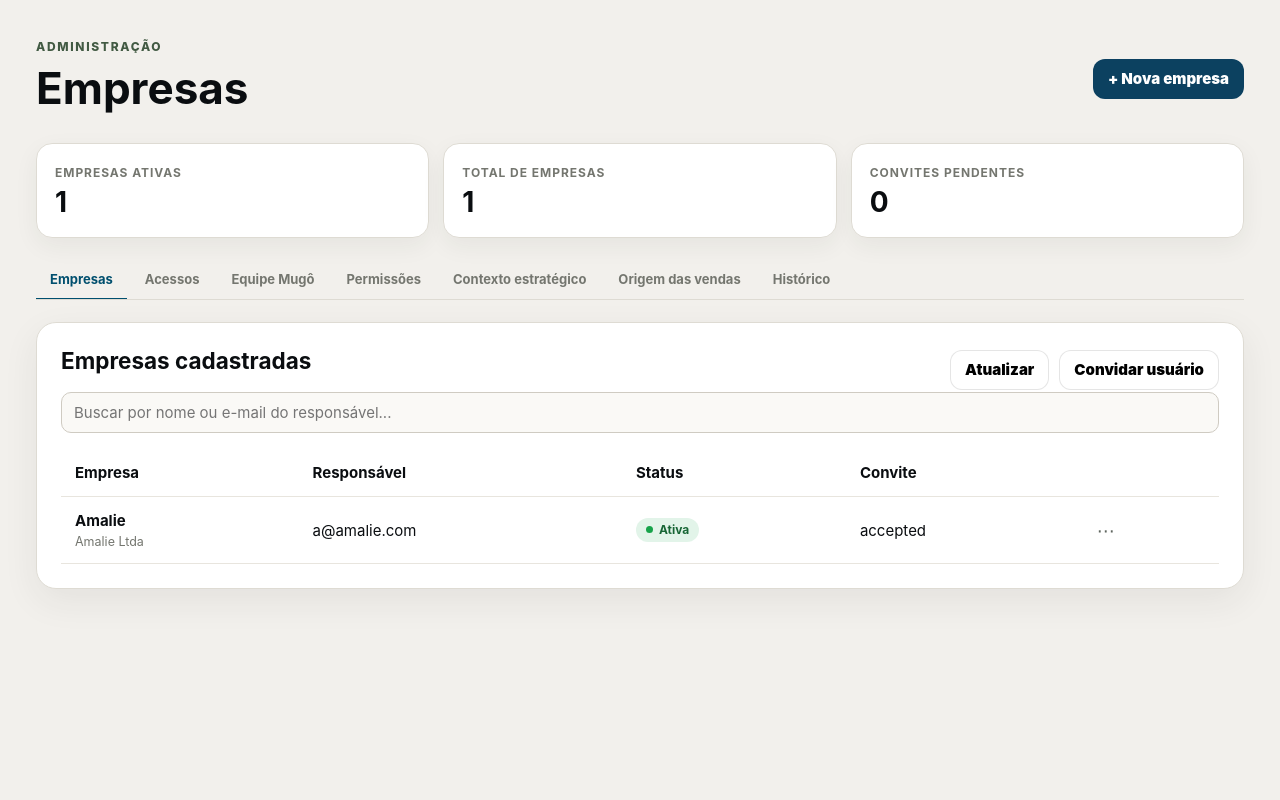
Scenario: Companies — exclusão permanente › impede excluir a empresa atualmente aberta
This screenshot has width=1280, height=800.
Click the heading "⋯": (1106, 530) [1097,520,1115,540]
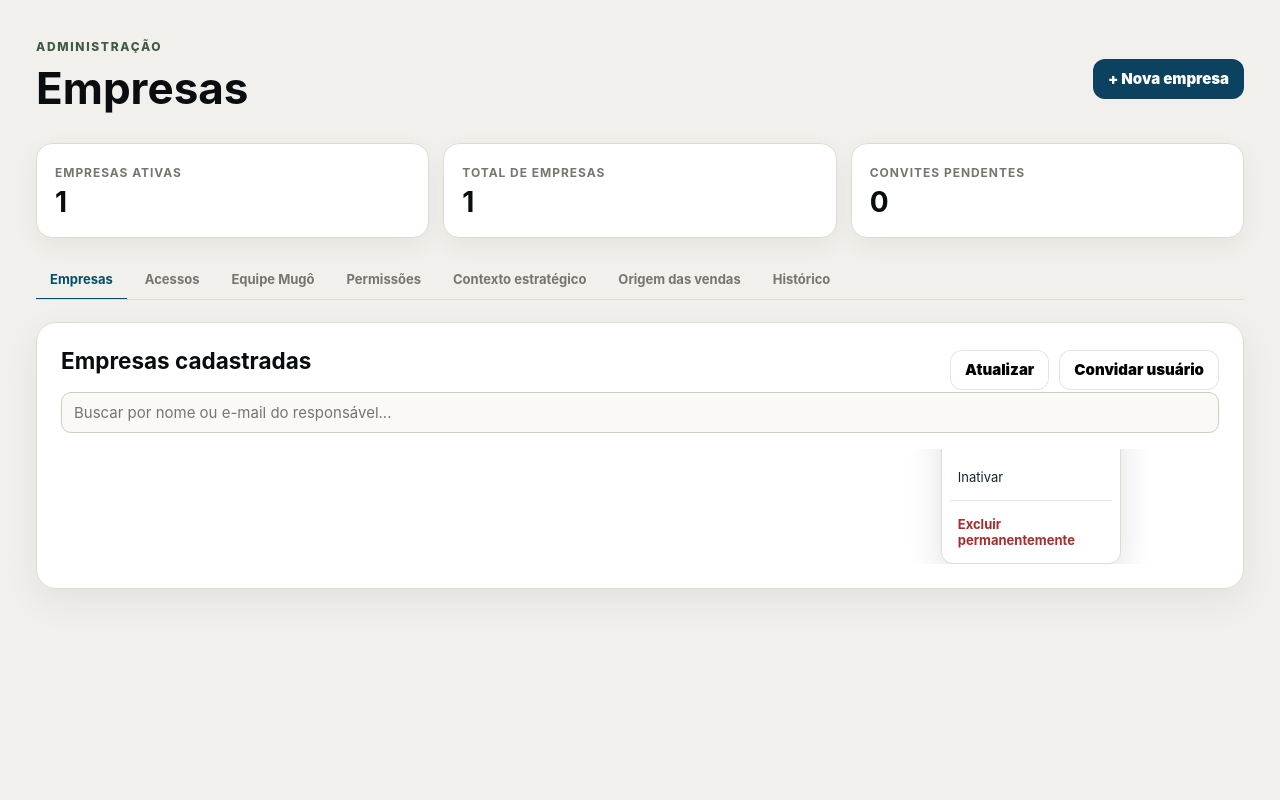
Click the menu item "Excluir permanentemente": (1031, 532) [948,507,1114,557]
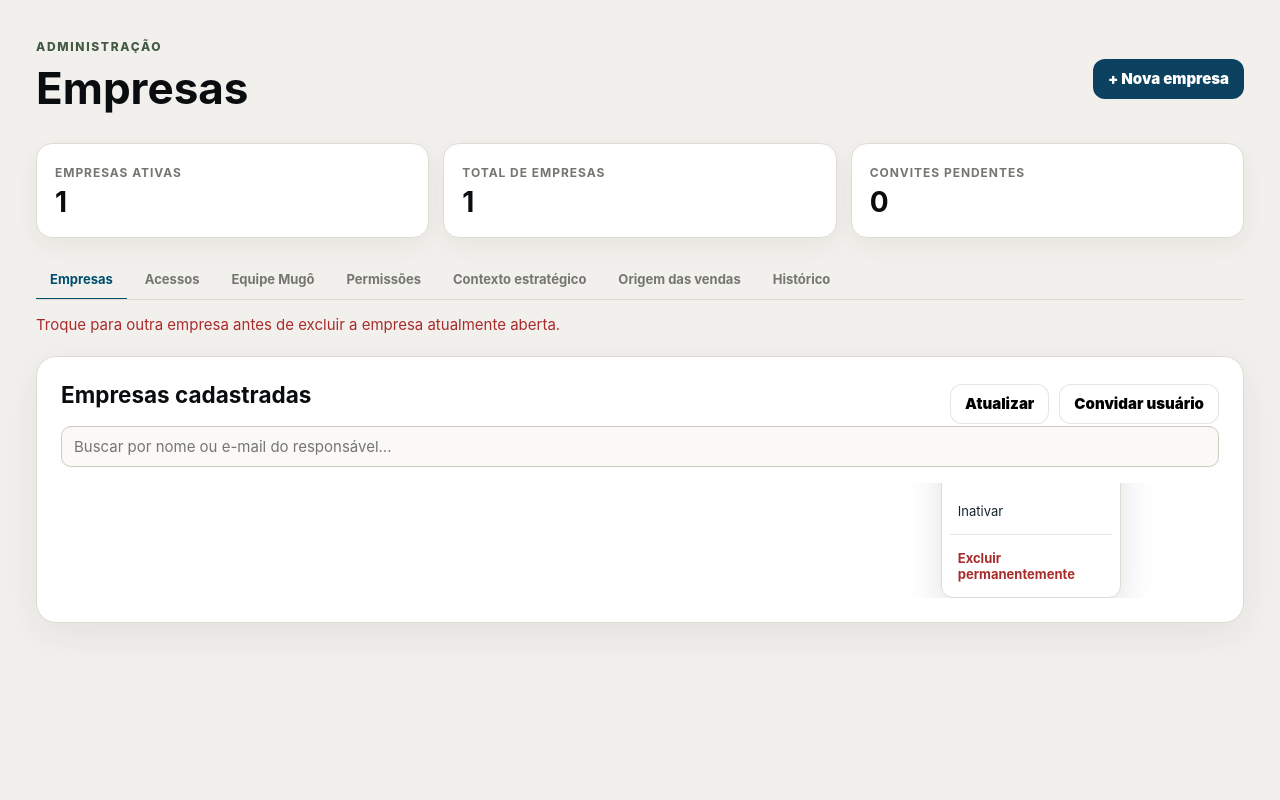
Now the text "Troque para outra empresa" is shown, box [36,315,560,334]
